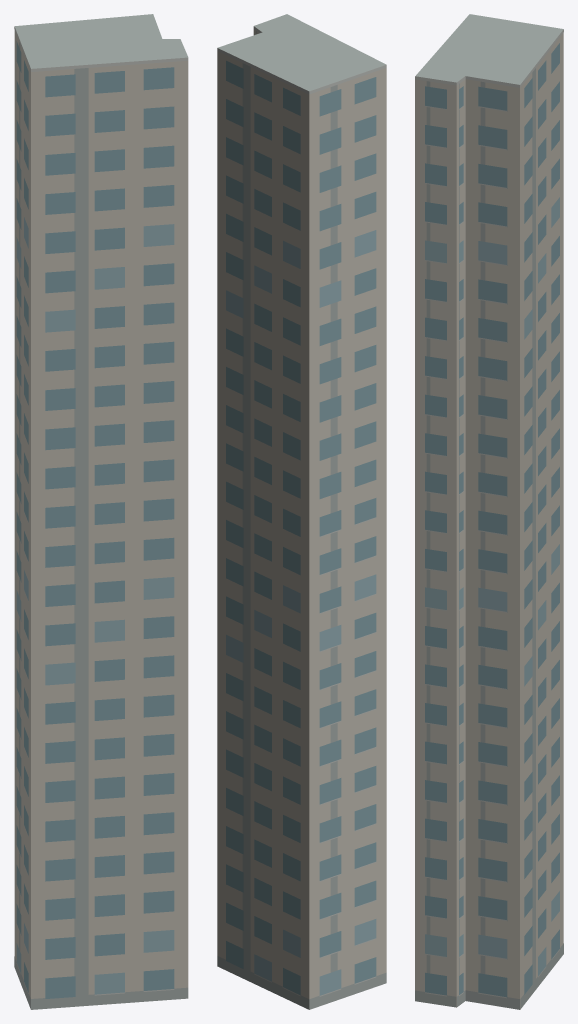
File: survey-upis-32892190.glb
3 views of the same model, side by side, from view 1: azimuth 30°, elevation 25°; view 2: azimuth 150°, elevation 25°; view 3: azimuth 270°, elevation 25° (orthographic). The views are drawn at different scales.
Parts seen in each view (by area): view 1: survey-upis-32892190.tmp; view 2: survey-upis-32892190.tmp; view 3: survey-upis-32892190.tmp.
Boxes of the visible parts, x1,y1,x2,y2 form: survey-upis-32892190.tmp: [14, 14, 188, 1009]; survey-upis-32892190.tmp: [217, 14, 386, 1009]; survey-upis-32892190.tmp: [415, 14, 563, 1009].
Bounding box in the file's own units: 12.05 × 73.2 × 10.67.
